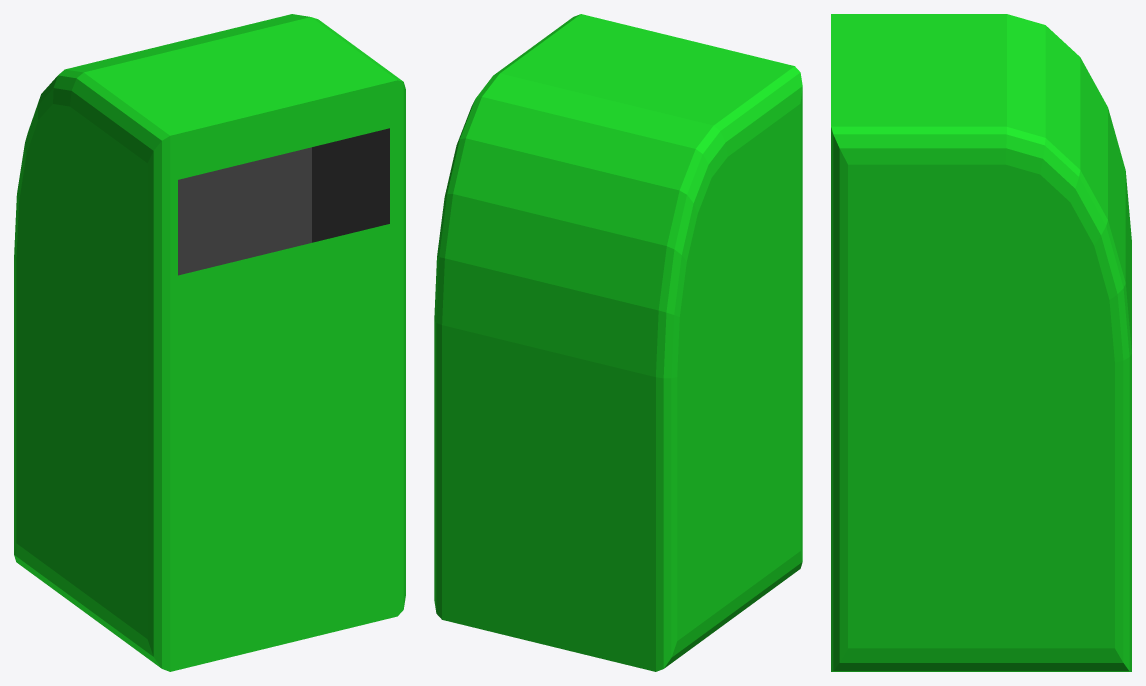
File: Tacho_verde.fbx
3 renders of one model, left to right at view 1: azimuth 30°, elevation 25°; view 2: azimuth 150°, elevation 25°; view 3: azimuth 270°, elevation 25°, orthographic. The views are drawn at different scales.
Visible parts, largest first — view 1: Cube; view 2: Cube; view 3: Cube.
Part boxes in pixels (x1=…): Cube: x1=14, y1=14, x2=405, y2=671; Cube: x1=434, y1=14, x2=802, y2=671; Cube: x1=831, y1=14, x2=1131, y2=671.
Size of the model in its own units: 100 by 200 by 100.
